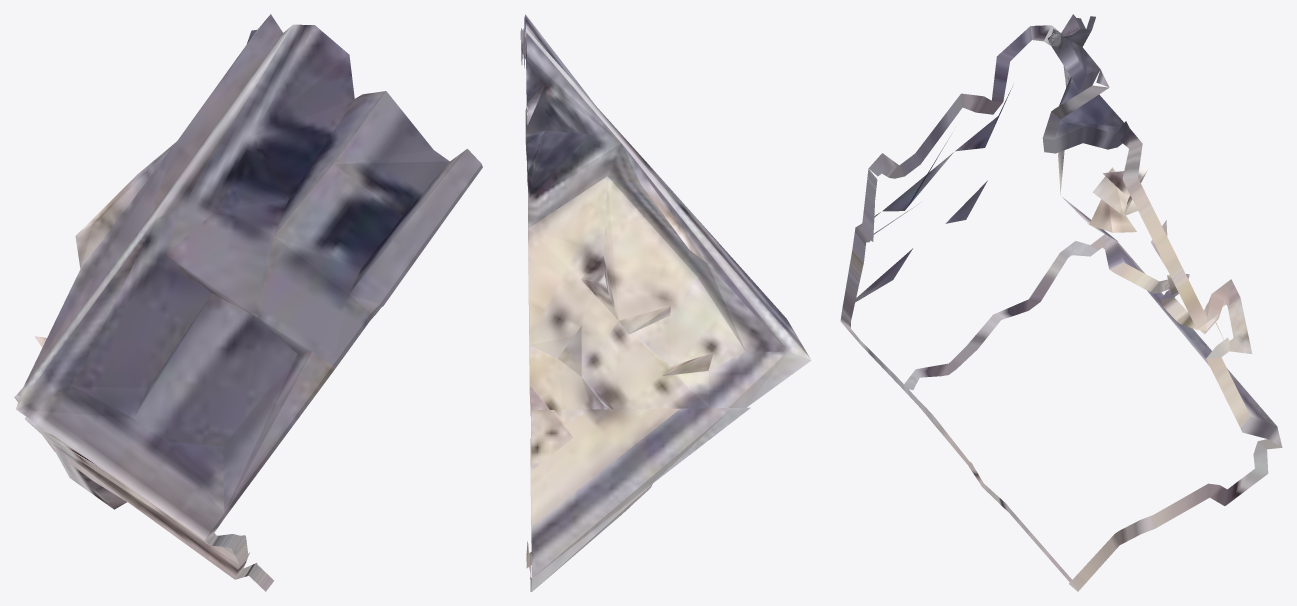
The picture shows the model from 3 angles, left to right: view 1: azimuth 30°, elevation 25°; view 2: azimuth 150°, elevation 25°; view 3: azimuth 270°, elevation 25°; orthographic projection. The views are drawn at different scales.
Bounding box in the file's own units: 13.89 × 19.39 × 13.41.
Materials: 1 (1 with a texture image).
